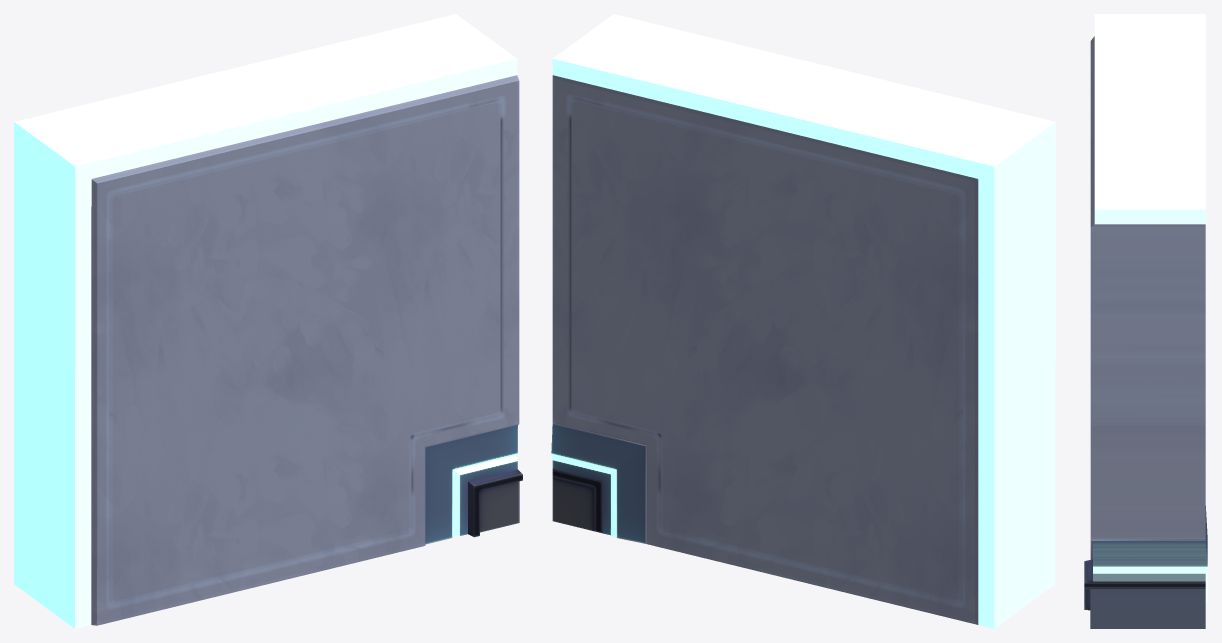
The model's file is floor1-2_low.fbx.
The picture shows the model from 3 angles, left to right: view 1: azimuth 30°, elevation 25°; view 2: azimuth 150°, elevation 25°; view 3: azimuth 270°, elevation 25°; orthographic projection. The views are drawn at different scales.
Parts seen in each view (by area): view 1: floor1-2_low; view 2: floor1-2_low; view 3: floor1-2_low.
Boxes of the visible parts, left/top/right/bottom form: floor1-2_low: left=14, top=14, right=522, bottom=628; floor1-2_low: left=551, top=14, right=1055, bottom=628; floor1-2_low: left=1084, top=14, right=1207, bottom=628.
Size of the model in its own units: 150 by 150 by 40.
